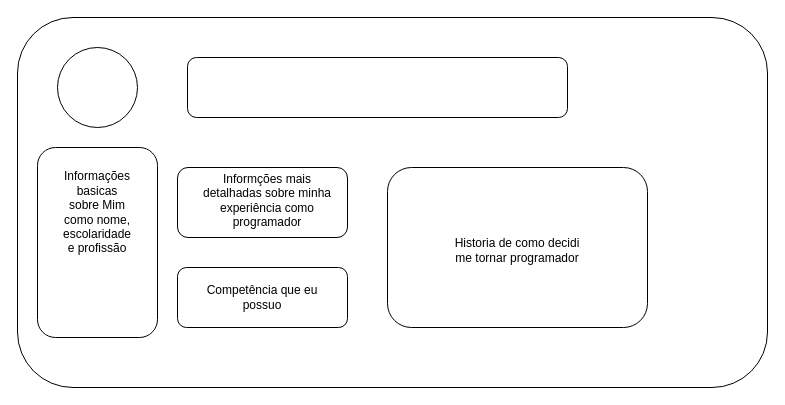
Some shapes in this 785 by 405 pixel diagram are drawn without their labels. The shapes that lost their labels are listed below. From the top down, each one's box as (x1, y1, x2, y2) in pixels, then its label:
(56, 46, 138, 128): foto
(186, 56, 568, 118): Informações de contato
